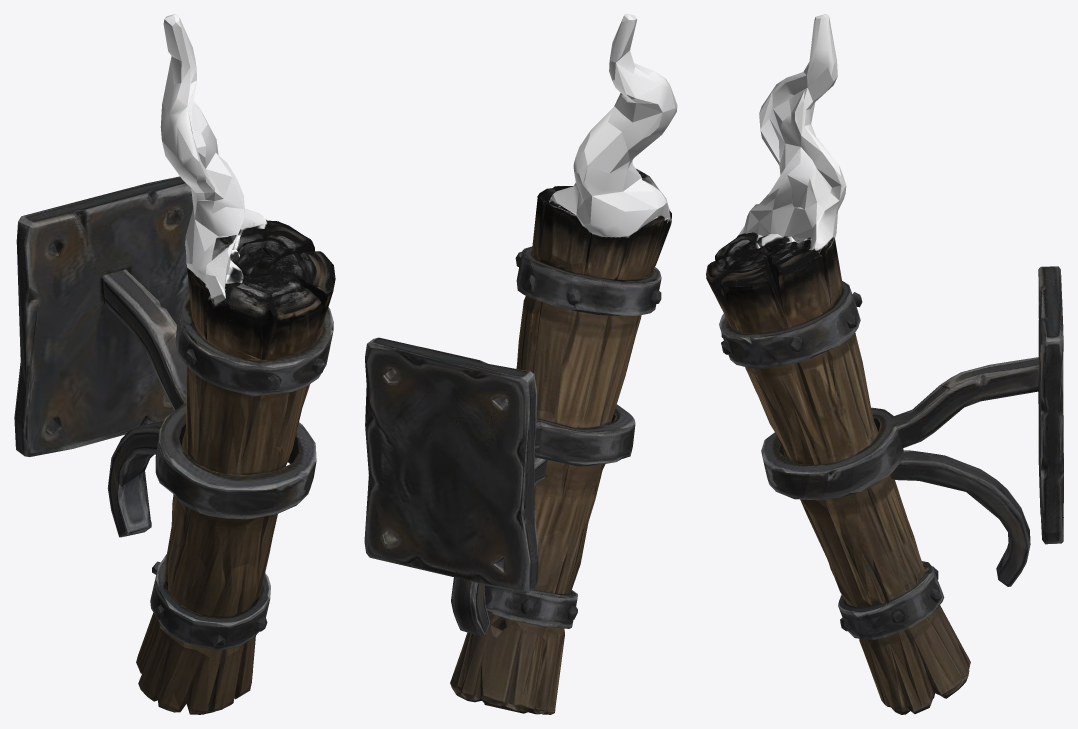
The model's file is wall_torch_out_3d.glb.
3 renders of one model, left to right at view 1: azimuth 30°, elevation 25°; view 2: azimuth 150°, elevation 25°; view 3: azimuth 270°, elevation 25°, orthographic. The views are drawn at different scales.
Parts seen in each view (by area): view 1: Mesh_0; view 2: Mesh_0; view 3: Mesh_0.
Boxes of the visible parts, x1=… form: Mesh_0: x1=14, y1=14, x2=335, y2=714; Mesh_0: x1=364, y1=14, x2=677, y2=714; Mesh_0: x1=706, y1=14, x2=1063, y2=714.
Size of the model in its own units: 0.2233 by 0.8839 by 0.4375.
Materials: 1 (1 with a texture image).
